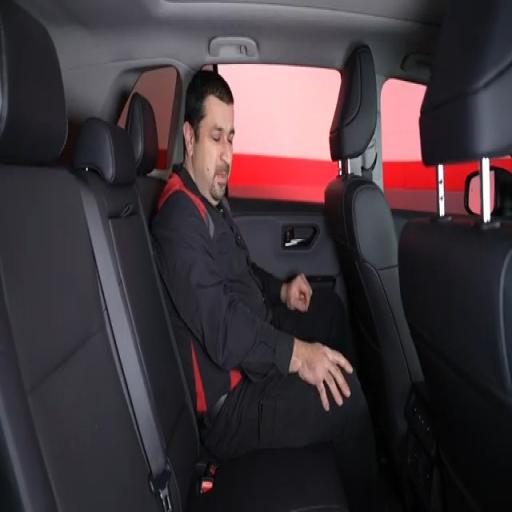side_mirror: (490, 167, 511, 217)
window: (218, 64, 340, 201), (381, 79, 437, 211), (118, 67, 178, 169)
